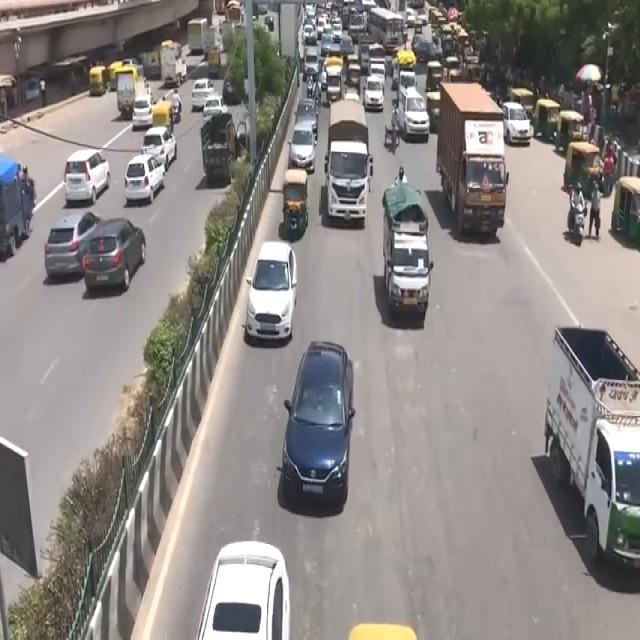TRUCK: (553, 320, 639, 572), (439, 82, 510, 239), (385, 186, 433, 326), (328, 137, 372, 225)
